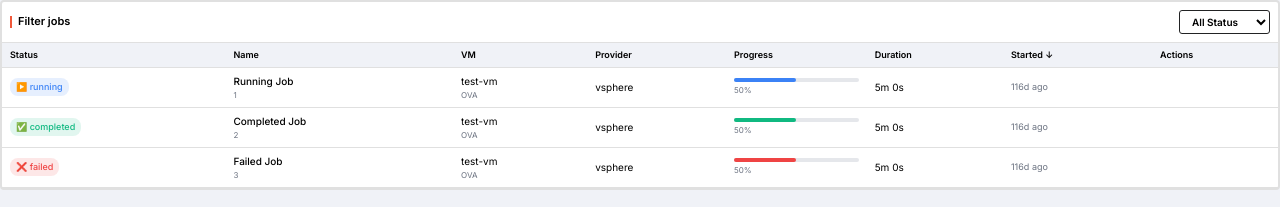
Scenario: JobsTable › filters jobs by status
Change filter to 'completed'
Select "Completed" in the dropdown at x=1224, y=22, box [1179,10,1270,34]
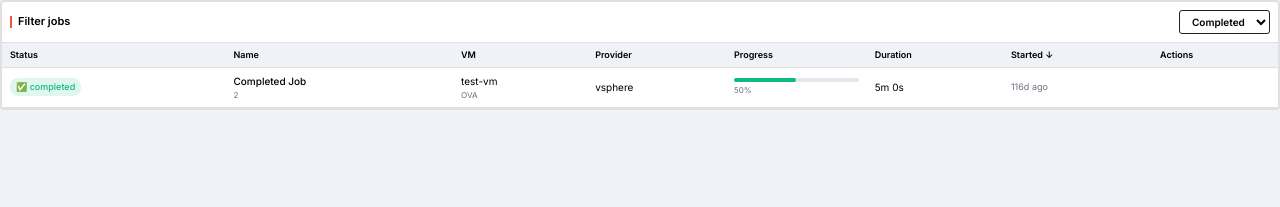
Check: the text "Completed Job" is shown, box [234,74,306,86]
Check: the text "Running Job" is gone
Check: the text "Failed Job" is gone
